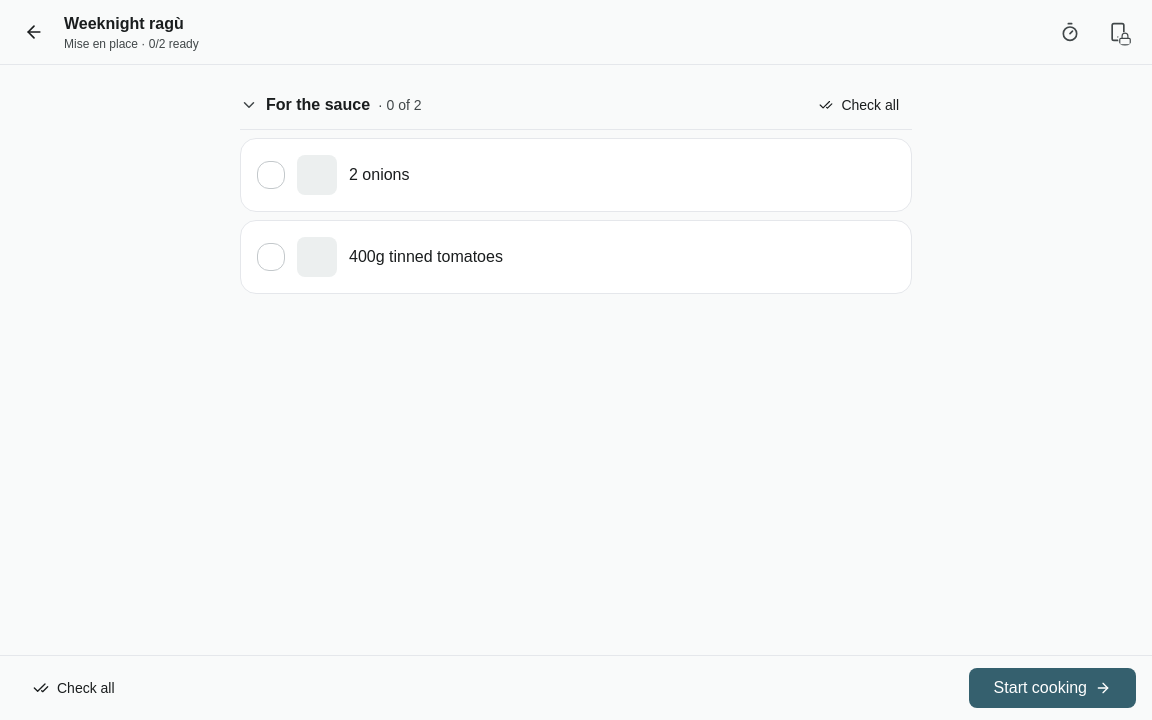
CookModePage — mise en place › ticks every ingredient in the recipe in one go
The image size is (1152, 720).
Click the button with test id "cook-mise-check-all". click: (74, 688)
box: [16,670,132,706]
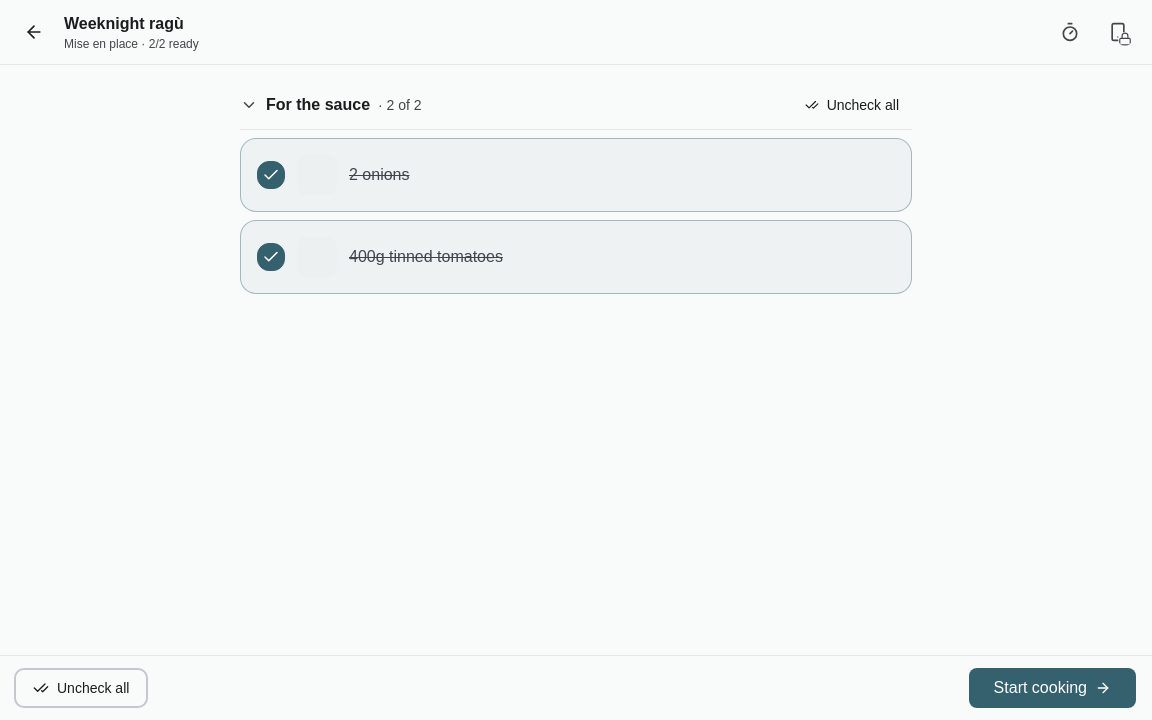
expect the button with test id "cook-mise-check-all" reads "Uncheck all": met, box [16,670,146,706]
